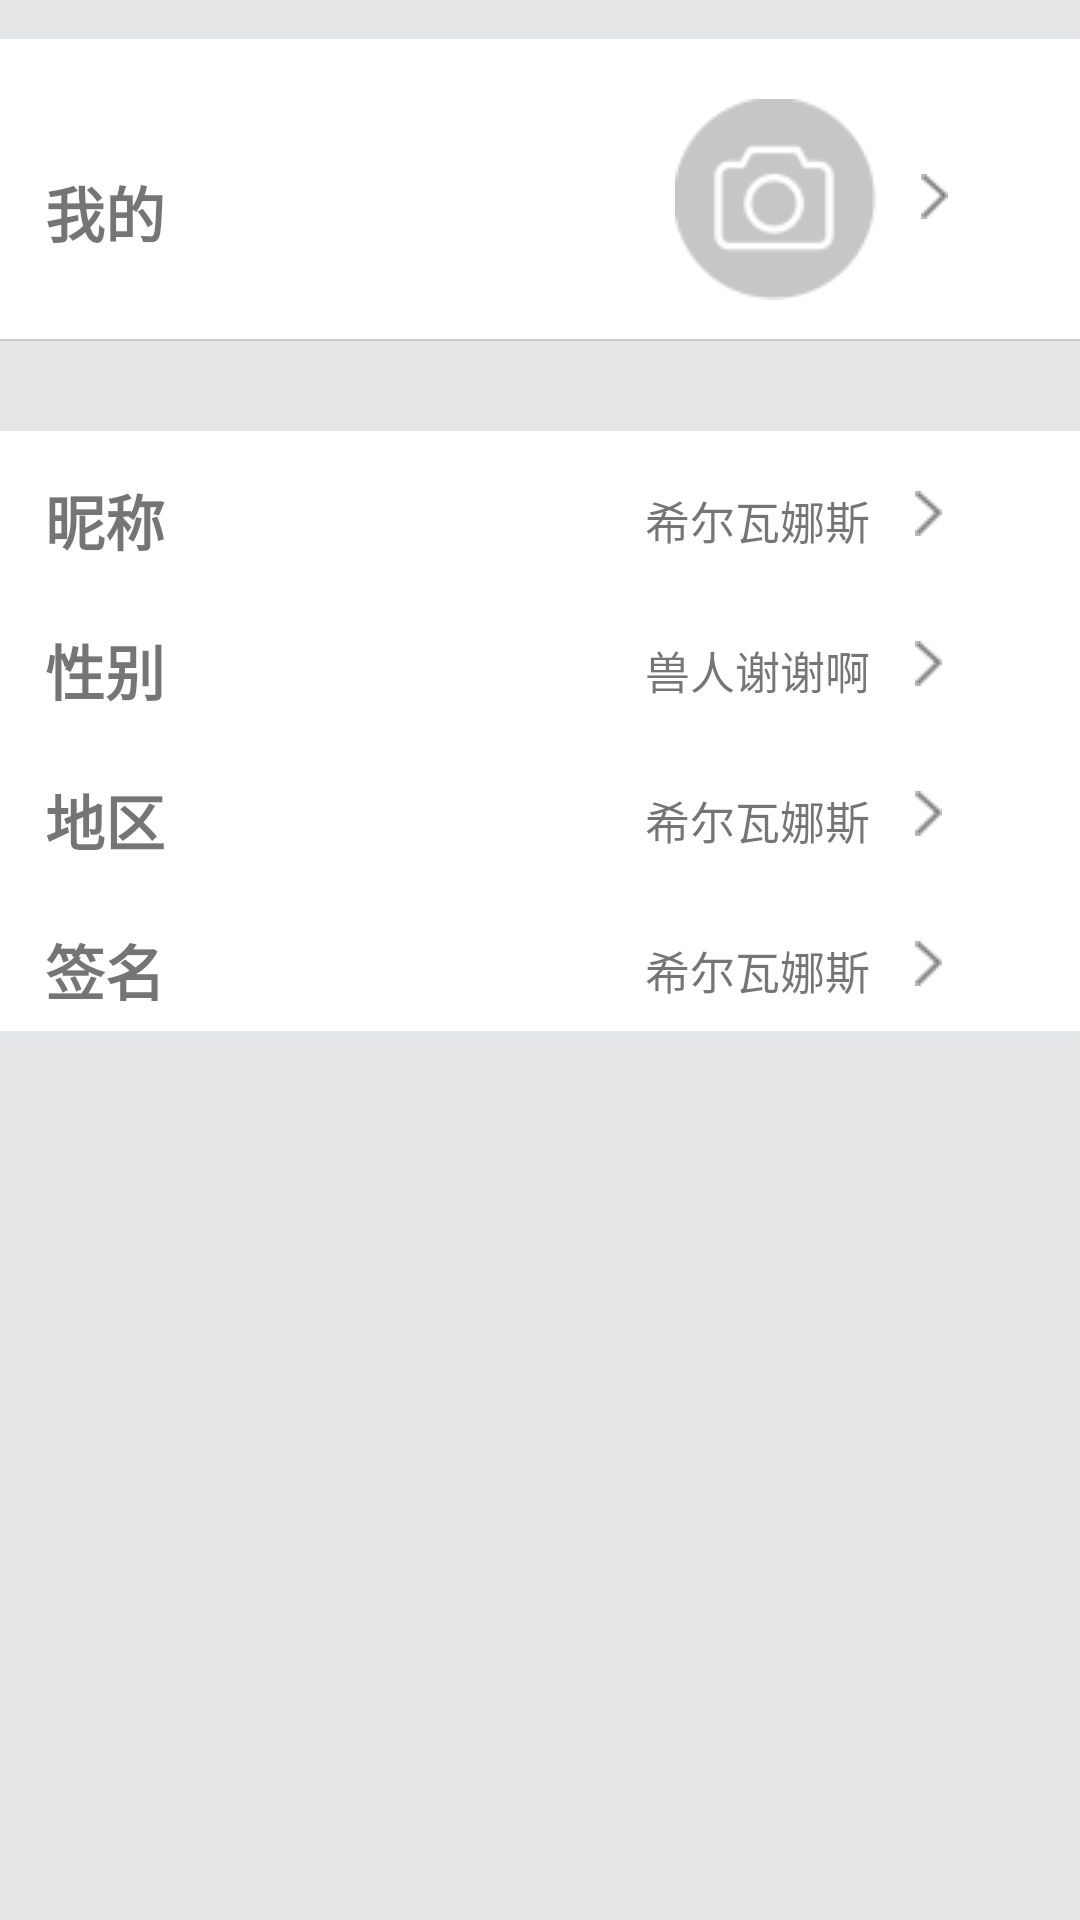

Icons on this 1080*1920 Android screen, each with its box as (x1, y1, x2, y2):
jiantou: (921, 174, 948, 219), (915, 491, 942, 536), (915, 641, 942, 686), (915, 791, 942, 836), (915, 941, 942, 986)
wode xiangji: (675, 99, 876, 300)
